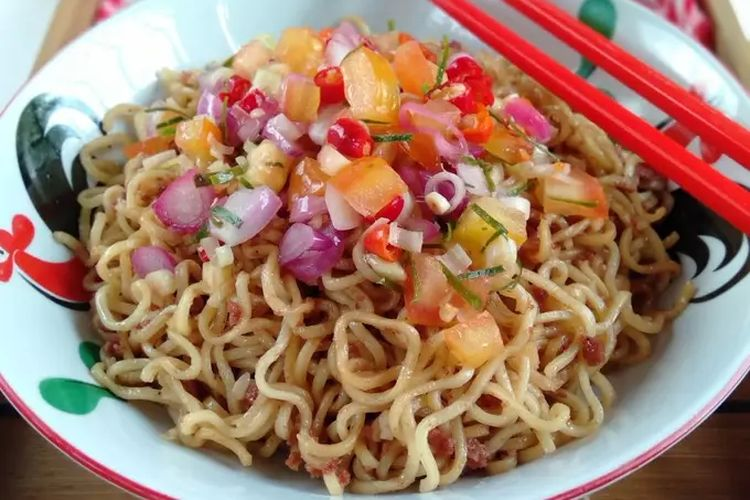Mie: (78, 47, 694, 458)
